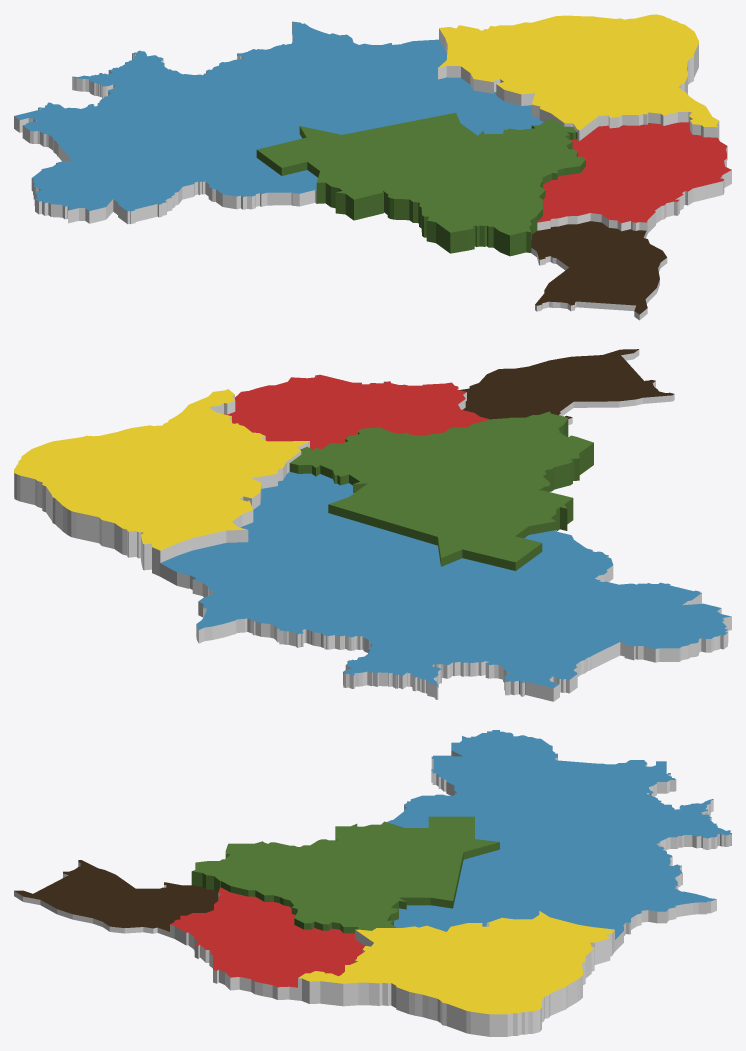
Rendered from mapabr2.dae.
3 renders of one model, top to bottom at view 1: azimuth 30°, elevation 25°; view 2: azimuth 150°, elevation 25°; view 3: azimuth 270°, elevation 25°, orthographic. The views are drawn at different scales.
Parts seen in each view (by area): view 1: group_1 (×2), group_2 (×4), group_0; view 2: group_1 (×2), group_2 (×4), group_0; view 3: group_2 (×4), group_1 (×2), group_0.
Part boxes in pixels (bbox=[...]): group_1 (×2): bbox=[14, 21, 543, 224]; group_2 (×4): bbox=[438, 14, 731, 320]; group_0: bbox=[256, 112, 585, 256]; group_1 (×2): bbox=[160, 472, 731, 701]; group_2 (×4): bbox=[14, 349, 674, 576]; group_0: bbox=[289, 411, 593, 570]; group_2 (×4): bbox=[14, 860, 614, 1036]; group_1 (×2): bbox=[387, 730, 731, 951]; group_0: bbox=[191, 816, 499, 933].
Bounding box in the file's own units: 232 × 239 × 8.27.
